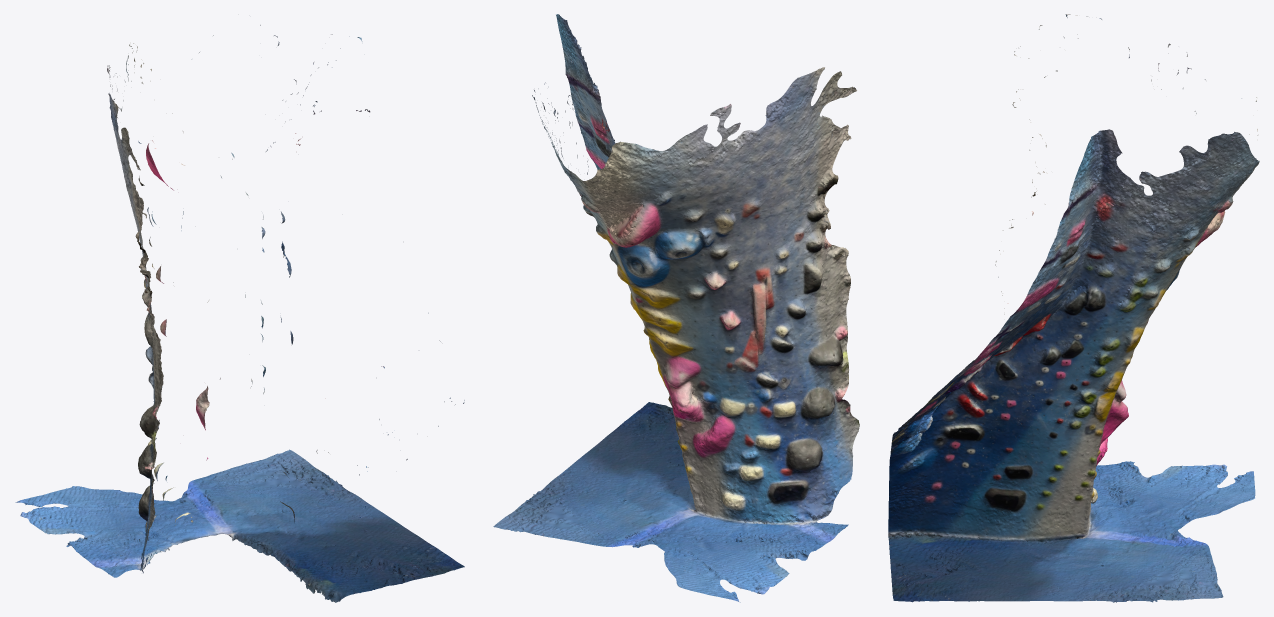
Rendered from wallC_overhang_right_marked.glb.
3 views of the same model, side by side, from view 1: azimuth 30°, elevation 25°; view 2: azimuth 150°, elevation 25°; view 3: azimuth 270°, elevation 25° (orthographic).
Parts seen in each view (by area): view 1: Mesh_0; view 2: Mesh_0, blue_v5_holds.002, blue_v5_holds.003; view 3: Mesh_0.
Boxes of the visible parts, left/top/right/bottom form: Mesh_0: left=15, top=25, right=464, bottom=602; Mesh_0: left=493, top=14, right=859, bottom=602; blue_v5_holds.002: left=617, top=244, right=669, bottom=286; blue_v5_holds.003: left=655, top=231, right=701, bottom=261; Mesh_0: left=888, top=14, right=1259, bottom=602.
Bounding box in the file's own units: 3.04 × 4.84 × 3.48.
Materials: 1 (1 with a texture image).
